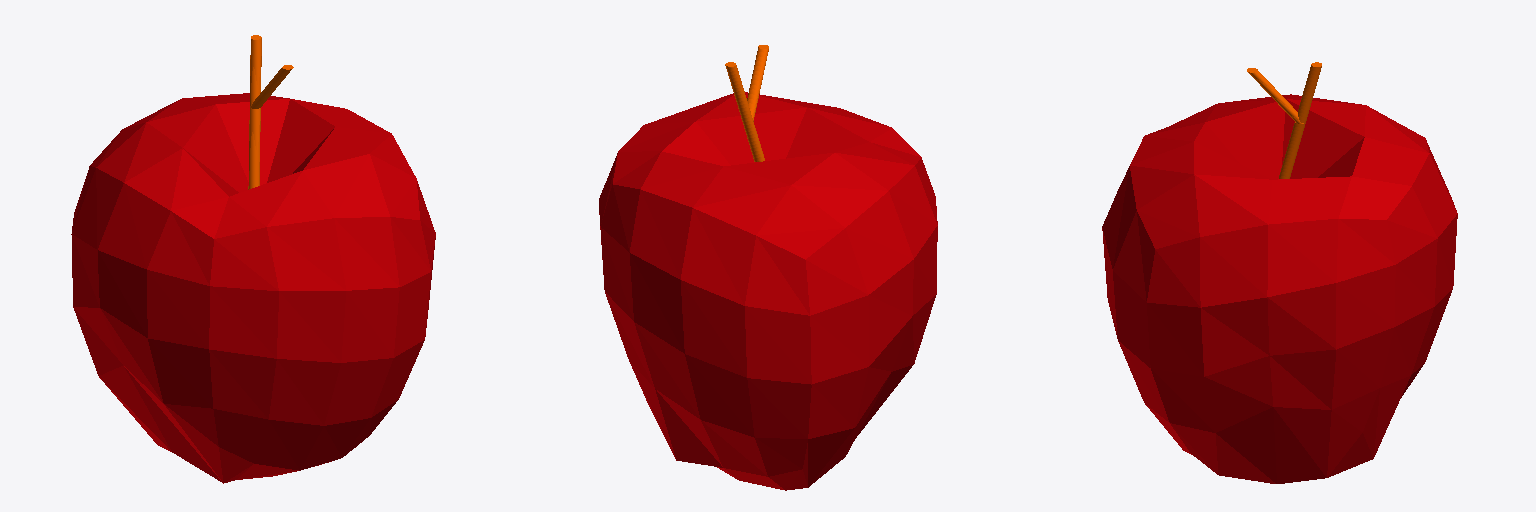
The model's file is apple.obj.
The picture shows the model from 3 angles: view 1: azimuth 30°, elevation 25°; view 2: azimuth 150°, elevation 25°; view 3: azimuth 270°, elevation 25°; orthographic projection.
Parts seen in each view (by area): view 1: Cube, Cilindro; view 2: Cube, Cilindro, Cilindro.001; view 3: Cube, Cilindro, Cilindro.001.
Part boxes in pixels (left/top/right/bottom): Cube: left=71, top=93, right=435, bottom=483; Cilindro: left=248, top=35, right=261, bottom=189; Cube: left=599, top=92, right=937, bottom=490; Cilindro: left=725, top=62, right=764, bottom=161; Cilindro.001: left=747, top=45, right=768, bottom=121; Cube: left=1102, top=94, right=1457, bottom=483; Cilindro: left=1279, top=62, right=1321, bottom=178; Cilindro.001: left=1247, top=68, right=1303, bottom=123.
Bounding box in the file's own units: 3.03 × 3.81 × 3.07.